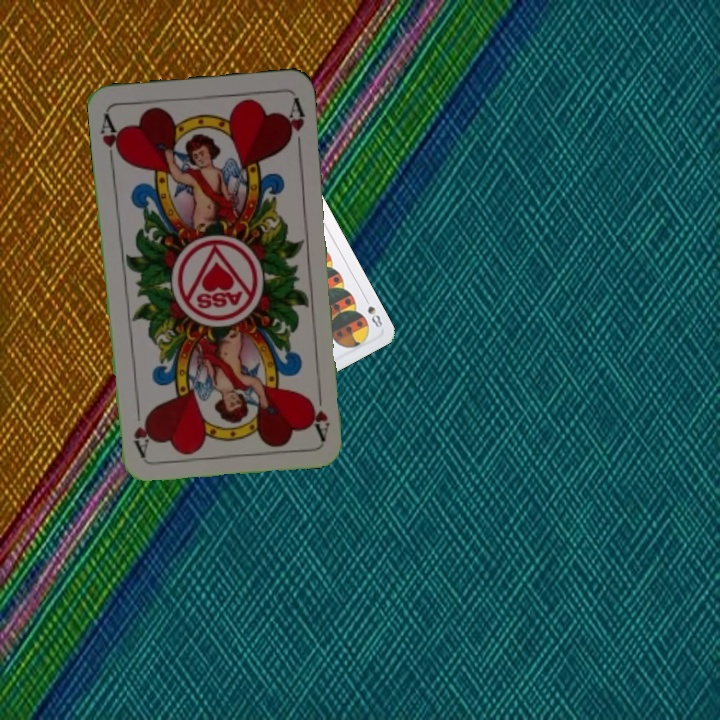HA: (96, 109, 126, 168), (305, 382, 332, 441)
S8: (360, 292, 385, 331)
